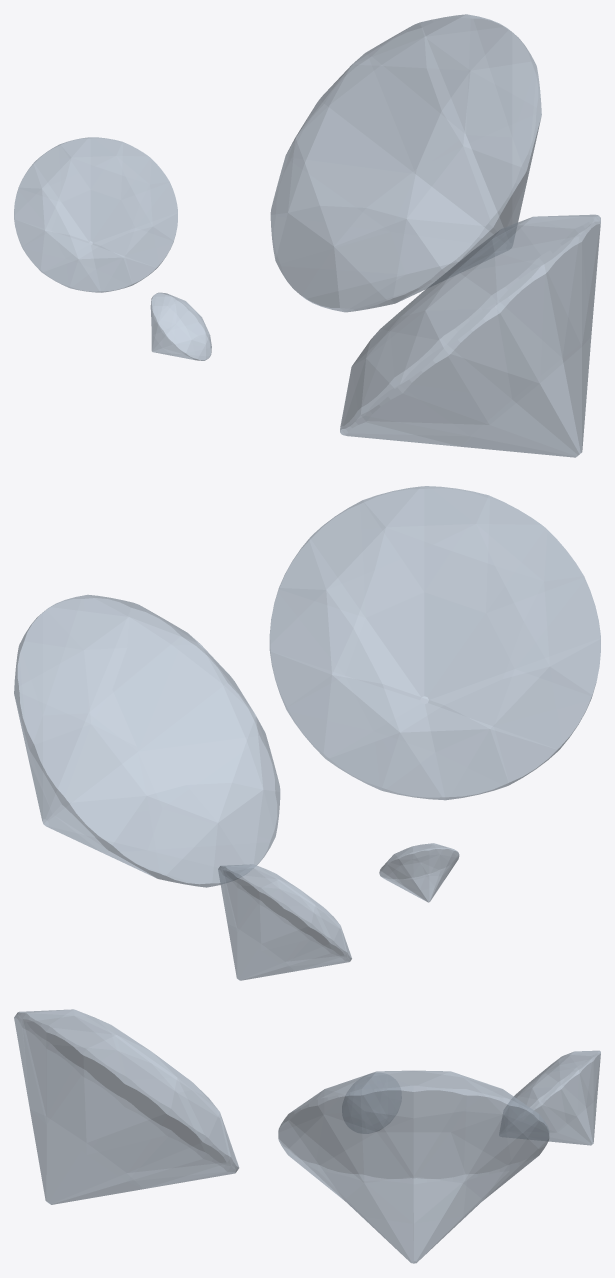
File: diamonds.glb
3 views of the same model, one above another, from view 1: azimuth 30°, elevation 25°; view 2: azimuth 150°, elevation 25°; view 3: azimuth 270°, elevation 25° (orthographic). The views are drawn at different scales.
Parts seen in each view (by area): view 1: 3DSMeshMatrix (×4); view 2: 3DSMeshMatrix (×4); view 3: 3DSMeshMatrix (×4).
Part boxes in pixels (left/top/right/bottom): 3DSMeshMatrix (×4): left=14, top=14, right=600, bottom=457; 3DSMeshMatrix (×4): left=14, top=486, right=600, bottom=980; 3DSMeshMatrix (×4): left=14, top=1009, right=600, bottom=1263.
Bounding box in the file's own units: 133 × 71.37 × 210.
